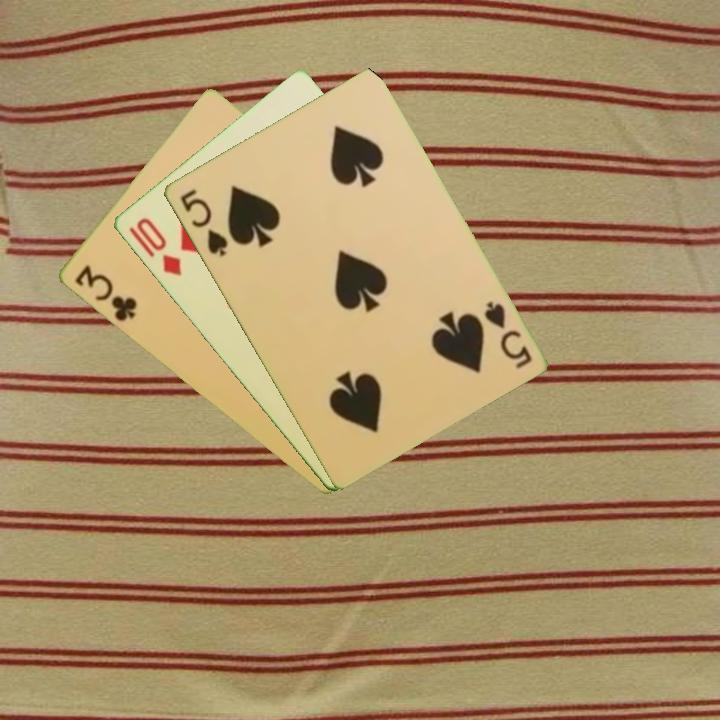10d: (124, 214, 184, 280)
3c: (70, 261, 140, 325)
5s: (176, 185, 231, 260), (480, 297, 535, 371)
